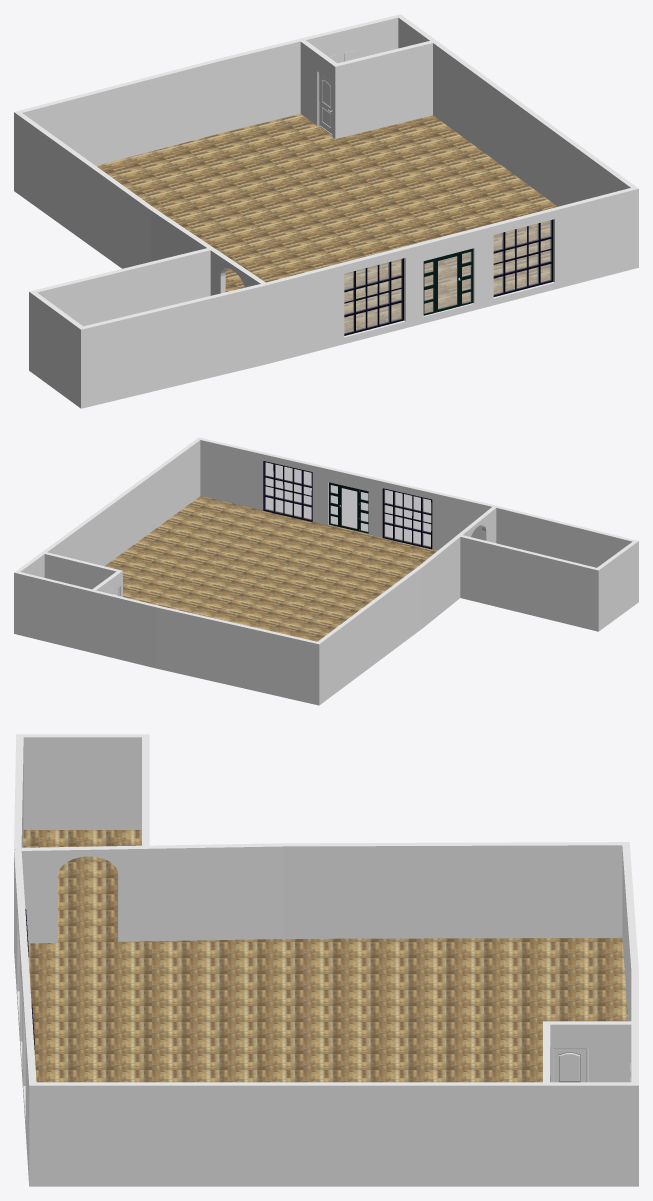
The model's file is room.gltf.
3 views of the same model, one above another, from view 1: azimuth 30°, elevation 25°; view 2: azimuth 150°, elevation 25°; view 3: azimuth 270°, elevation 25° (orthographic). The views are drawn at different scales.
Visible parts, largest first — view 1: Object_56, Object_2, Object_3, Object_12, Object_40, Object_41, Object_79, Object_81, Object_76; view 2: Object_2, Object_56, Object_3, Object_12, Object_40, Object_41, Object_79, Object_81; view 3: Object_56, Object_3, Object_2, Object_12, Object_76.
Boxes of the visible parts, x1,y1,x2,y2 form: Object_56: (96, 114, 557, 332); Object_2: (14, 112, 638, 408); Object_3: (22, 17, 630, 326); Object_12: (14, 14, 638, 329); Object_40: (344, 220, 551, 333); Object_41: (344, 219, 553, 335); Object_79: (424, 252, 471, 313); Object_81: (423, 248, 473, 315); Object_76: (318, 72, 332, 134); Object_2: (14, 463, 638, 705); Object_56: (105, 496, 437, 641); Object_3: (20, 440, 632, 596); Object_12: (14, 437, 638, 644); Object_40: (265, 462, 431, 547); Object_41: (263, 461, 432, 549); Object_79: (330, 485, 368, 531); Object_81: (329, 482, 368, 533); Object_56: (23, 830, 628, 1082); Object_3: (21, 737, 631, 1082); Object_2: (14, 849, 638, 1186); Object_12: (14, 734, 638, 1085); Object_76: (550, 1047, 588, 1082).
Size of the model in its own units: 21.99 by 2.95 by 16.53.
Materials: 25 (2 with a texture image).
